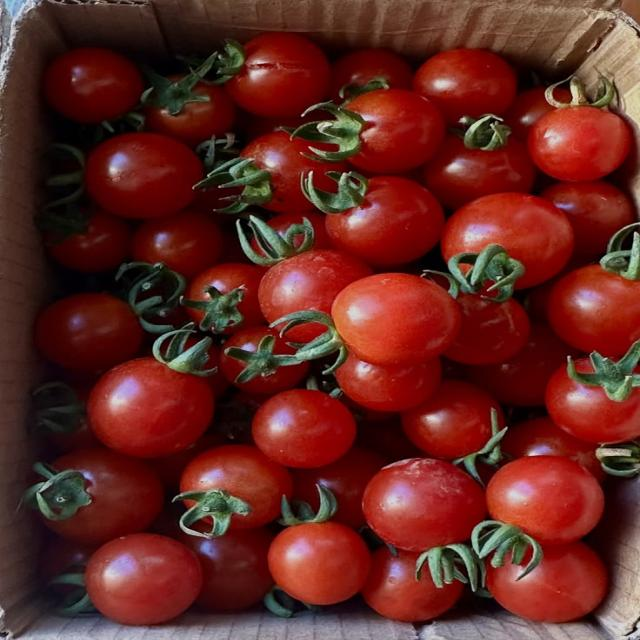tomato: (441, 192, 573, 289), (87, 358, 214, 457), (332, 273, 461, 365), (42, 448, 163, 544), (363, 458, 486, 551), (325, 176, 444, 267), (86, 534, 202, 624), (487, 456, 604, 544), (85, 133, 203, 218), (487, 541, 608, 623), (180, 445, 292, 530), (465, 323, 576, 407), (240, 130, 347, 213), (226, 32, 329, 117), (34, 293, 143, 371), (268, 522, 370, 605), (425, 134, 536, 210), (547, 265, 639, 356), (347, 89, 445, 174), (259, 250, 373, 322), (253, 389, 356, 468), (401, 380, 503, 459), (179, 528, 273, 612), (527, 106, 632, 181), (291, 446, 386, 528), (43, 47, 144, 123), (414, 49, 516, 124), (361, 547, 462, 621), (546, 364, 639, 443), (540, 181, 636, 256), (500, 417, 606, 482), (132, 211, 223, 280), (220, 325, 308, 395), (335, 353, 441, 411), (143, 81, 237, 146), (444, 293, 530, 364), (183, 263, 264, 333), (45, 209, 132, 273), (147, 432, 229, 490), (328, 48, 413, 103), (356, 414, 423, 463), (502, 87, 555, 143), (39, 536, 99, 582), (267, 212, 333, 249)
